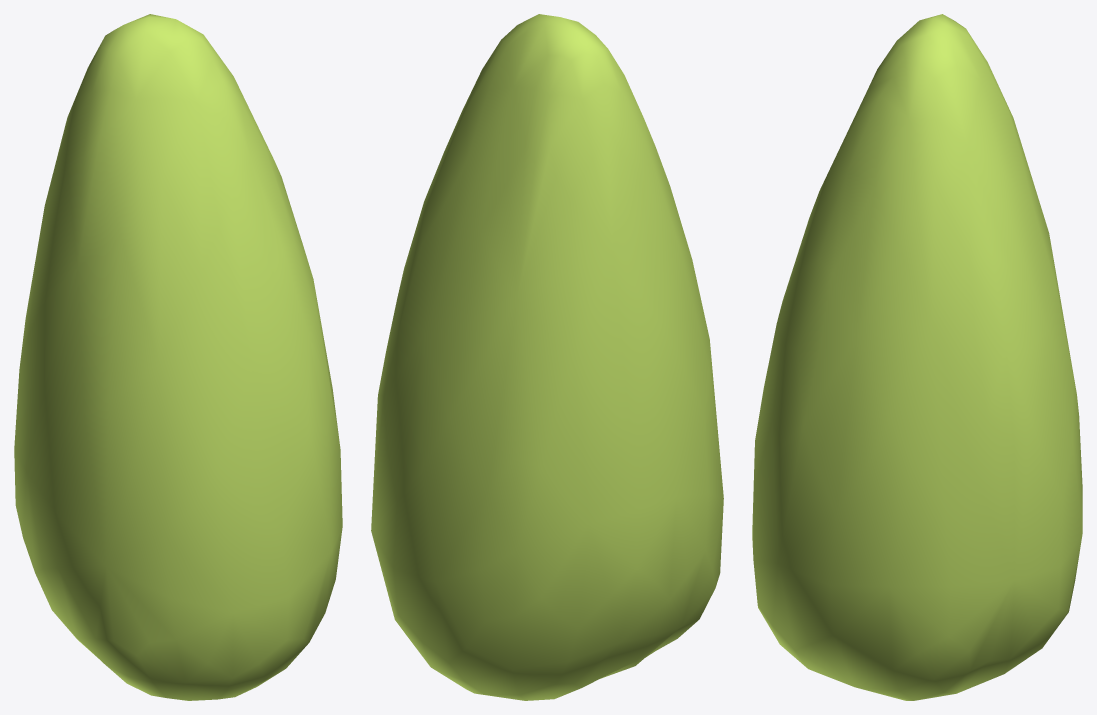
Rendered from BushTree_C.fbx.
3 renders of one model, left to right at view 1: azimuth 30°, elevation 25°; view 2: azimuth 150°, elevation 25°; view 3: azimuth 270°, elevation 25°, orthographic. The views are drawn at different scales.
Parts seen in each view (by area): view 1: Thuja_BushTree_m_06; view 2: Thuja_BushTree_m_06; view 3: Thuja_BushTree_m_06.
Part boxes in pixels (<box>): Thuja_BushTree_m_06: <box>14,14,342,700</box>; Thuja_BushTree_m_06: <box>371,14,723,700</box>; Thuja_BushTree_m_06: <box>752,14,1082,700</box>.
Bounding box in the file's own units: 156 × 351 × 163.
